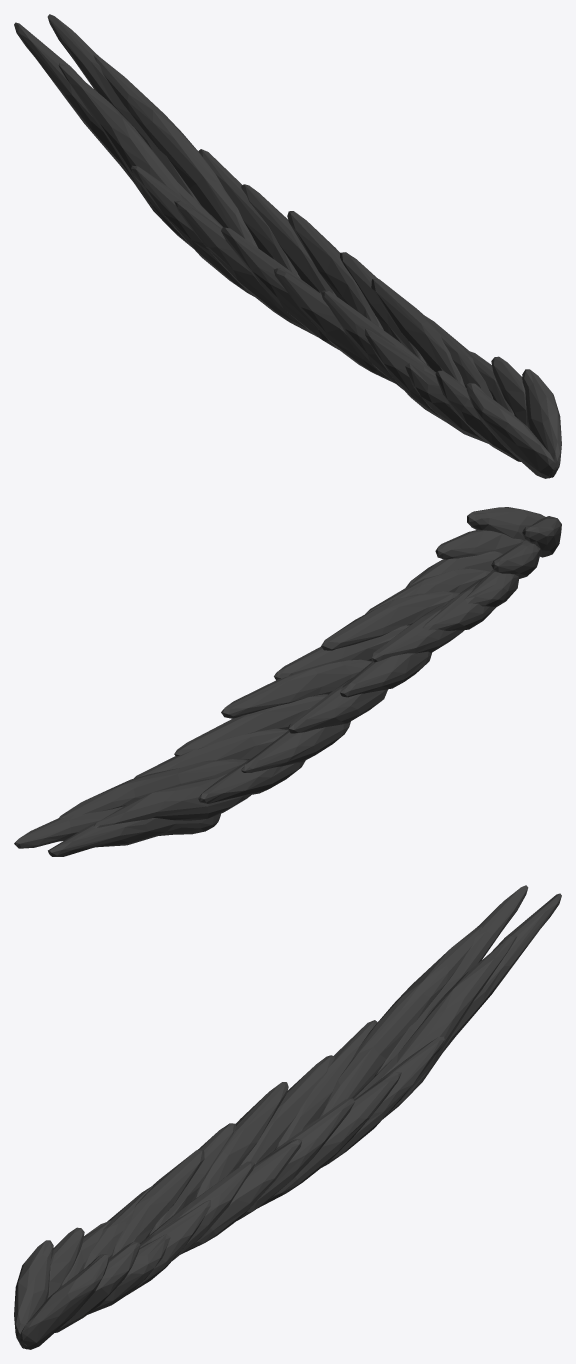
File: multifidus_lumborum.glb
3 views of the same model, one above another, from view 1: azimuth 30°, elevation 25°; view 2: azimuth 150°, elevation 25°; view 3: azimuth 330°, elevation 25° (orthographic).
Visible parts, largest first — view 1: multifidus_lumborum; view 2: multifidus_lumborum; view 3: multifidus_lumborum.
Part boxes in pixels (x1,y1,x2,y2): multifidus_lumborum: [14, 14, 561, 478]; multifidus_lumborum: [14, 507, 561, 856]; multifidus_lumborum: [14, 885, 561, 1349].
Bounding box in the file's own units: 0.000771 × 0.000938 × 0.00838.
1 material, 1 textured.
